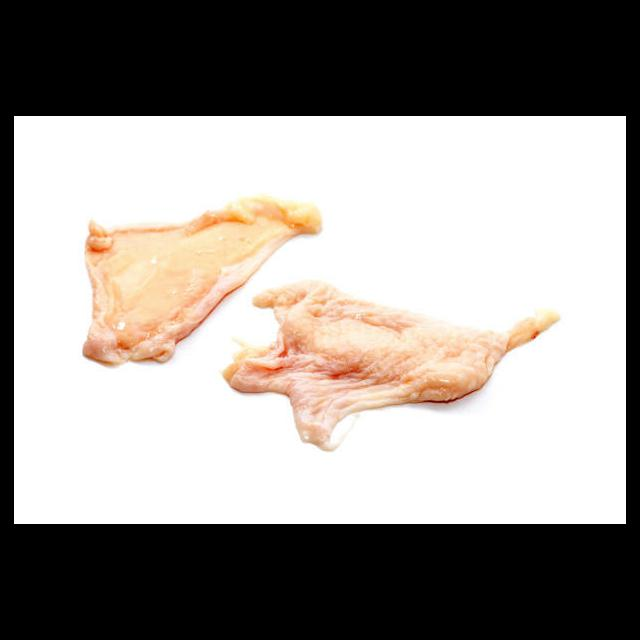chicken: (223, 279, 561, 455), (82, 194, 324, 365)
